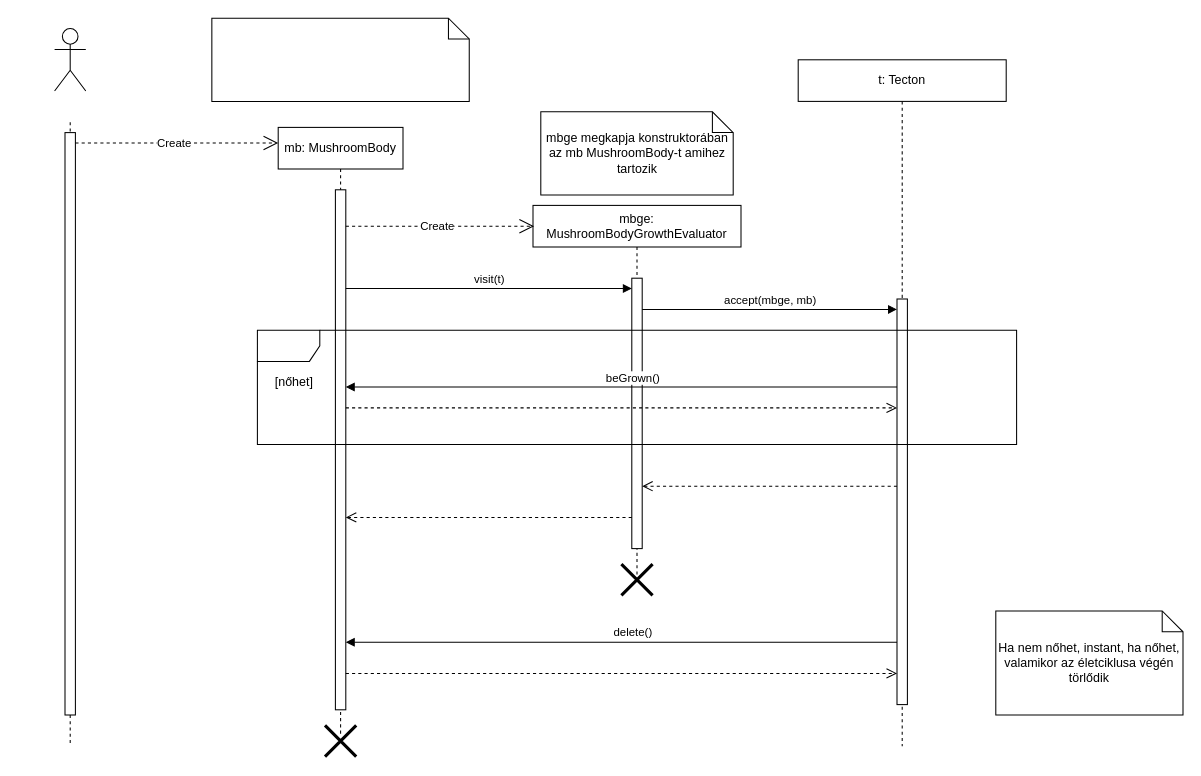
Image size: 1201x776. Some labels were removed from this diagram. The shapes that lost their labels are listed below. From the top down, each one's centre as x and y in pixels, then its label:
At (70,59): "Controller".
At (340,59): "mb megkapja a konstruktorában a t tectont ahova nőni szeretne".
At (636,387): "opt".
